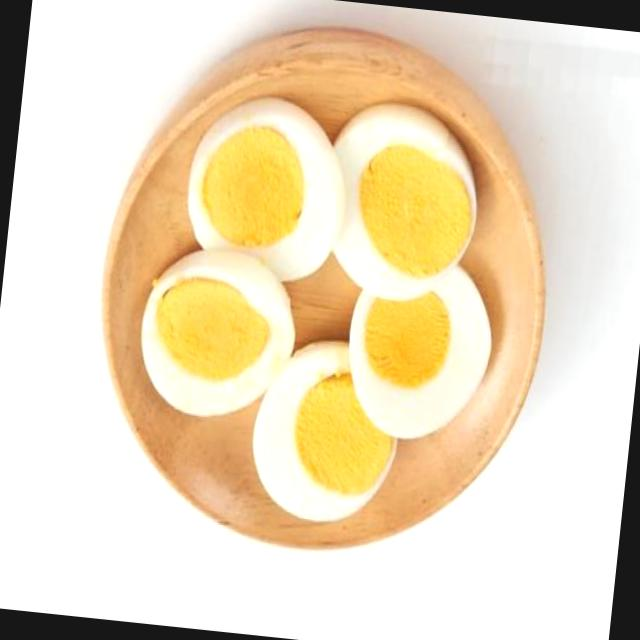trung luoc: (188, 98, 343, 280), (332, 104, 474, 297), (252, 341, 395, 521), (140, 251, 294, 416), (349, 268, 490, 438)
